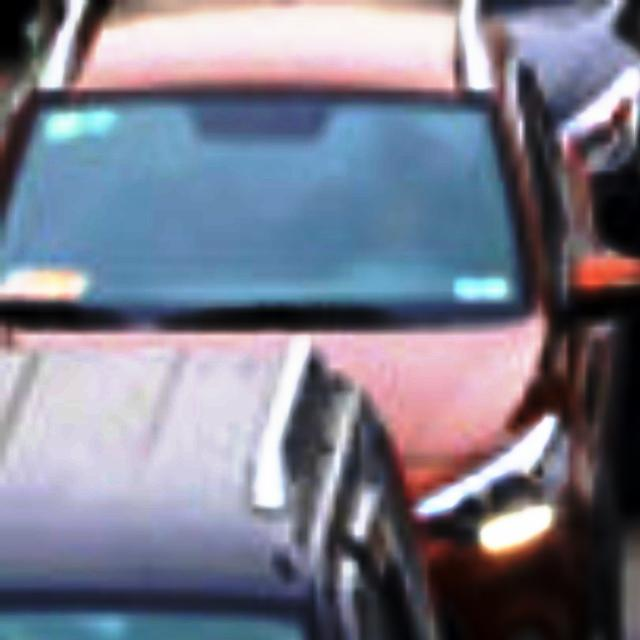Car: (0, 0, 640, 640), (9, 347, 423, 631), (429, 6, 640, 177)
